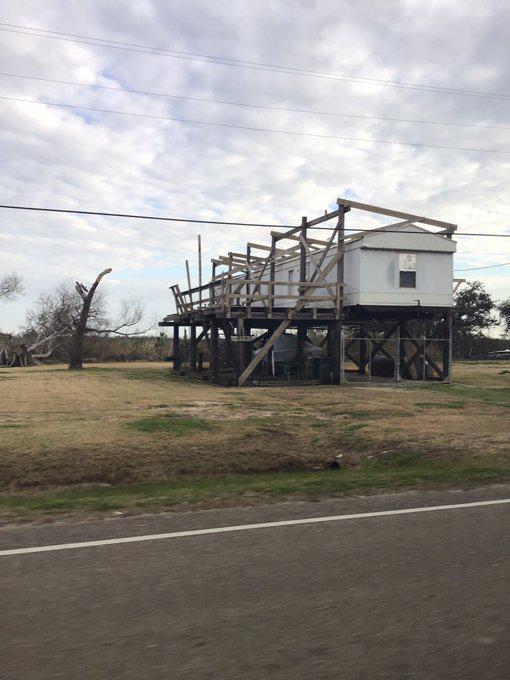affected: (138, 183, 478, 387)
